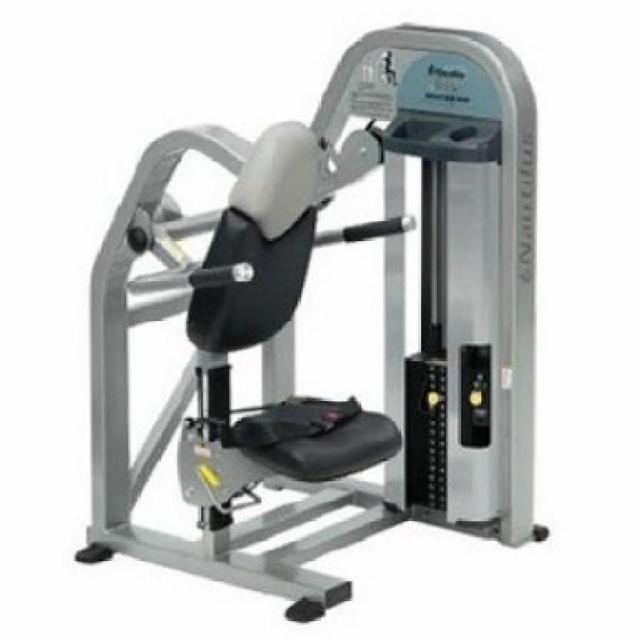seated dip machine: (51, 18, 555, 630)
